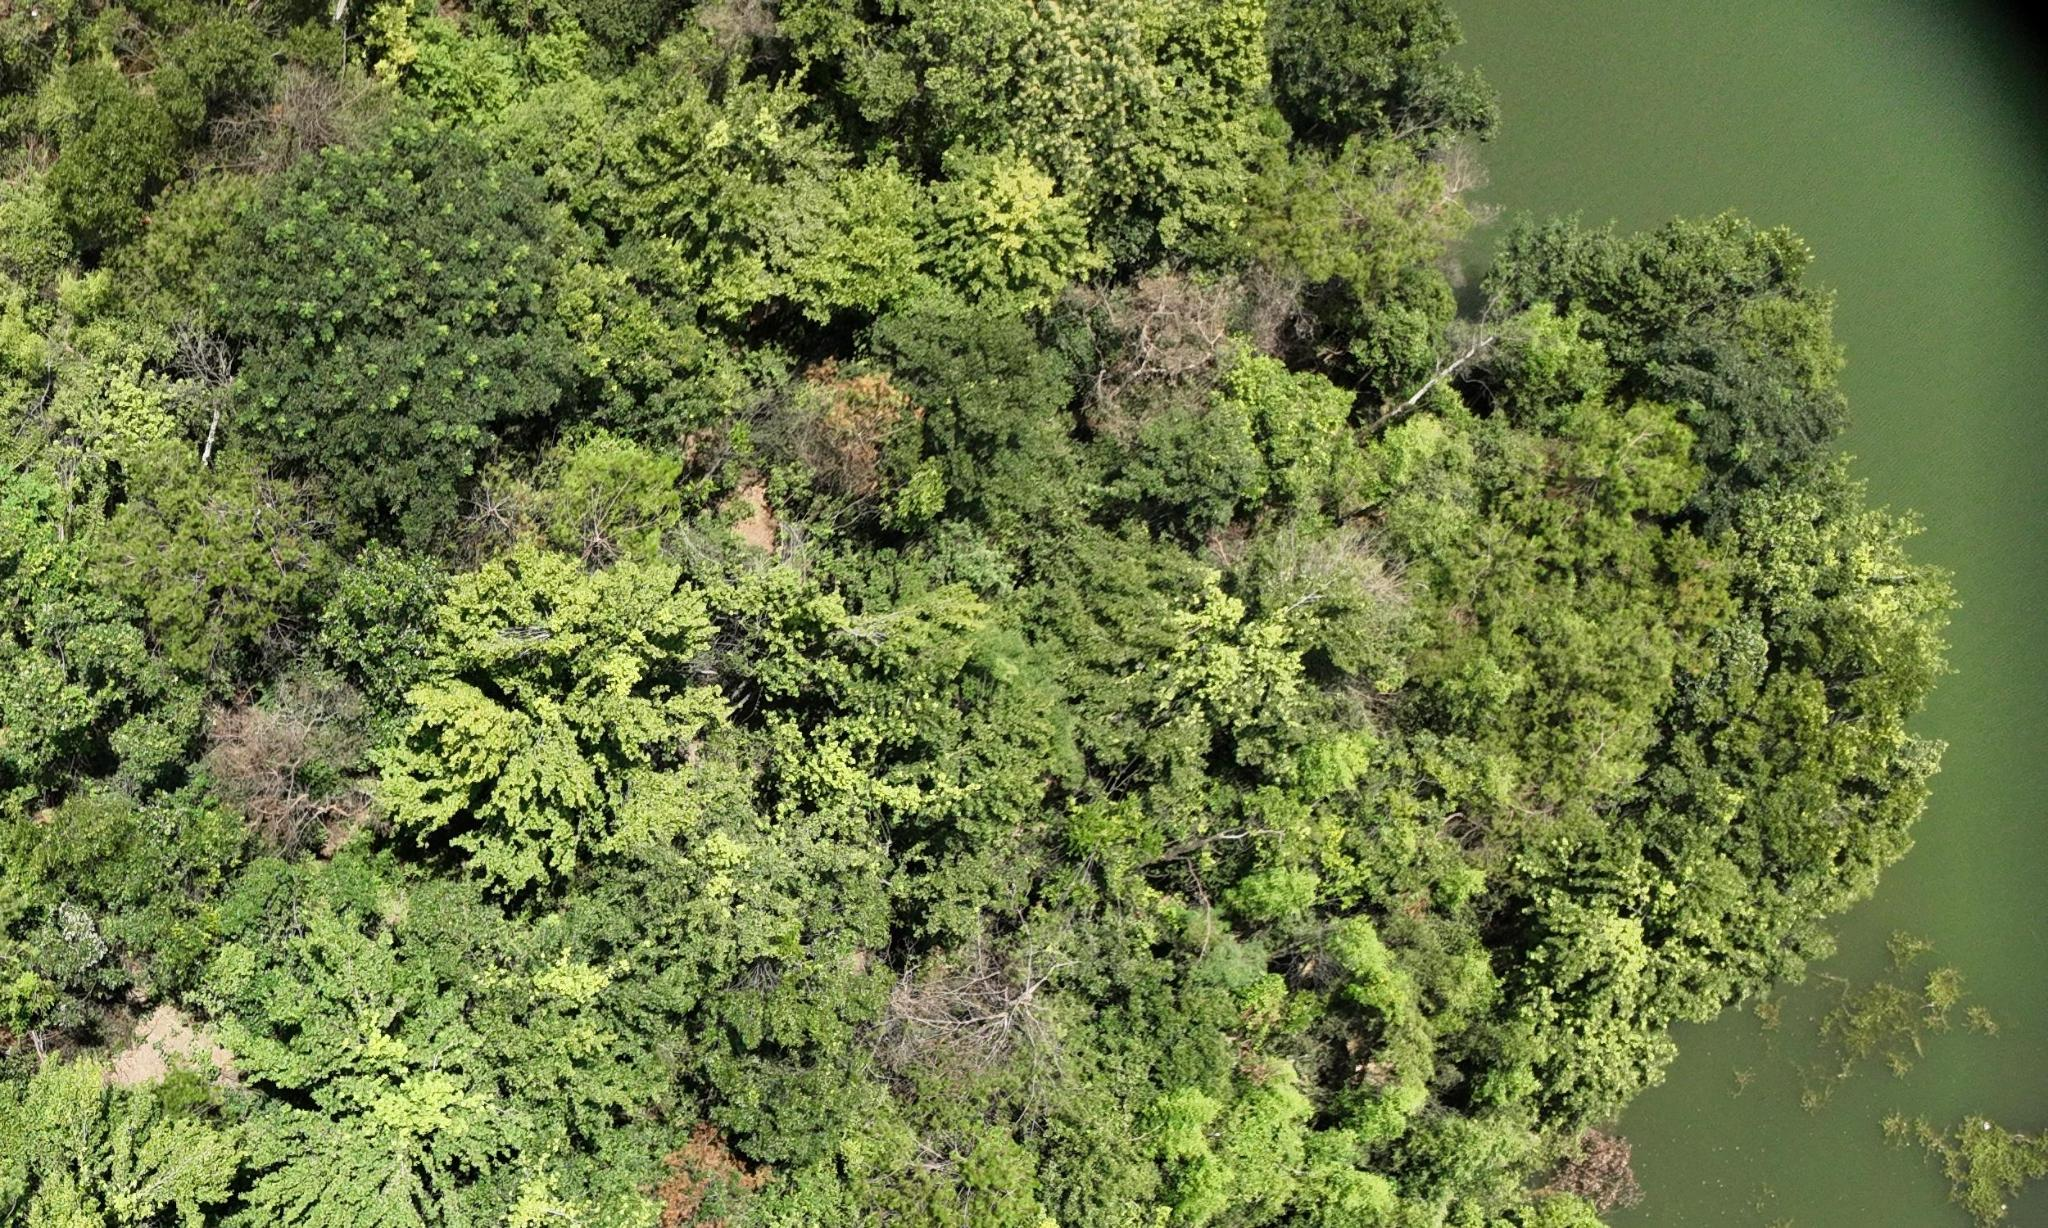dead: (1079, 262, 1297, 430), (877, 931, 1045, 1094), (208, 687, 370, 849)
light: (795, 360, 924, 501)
